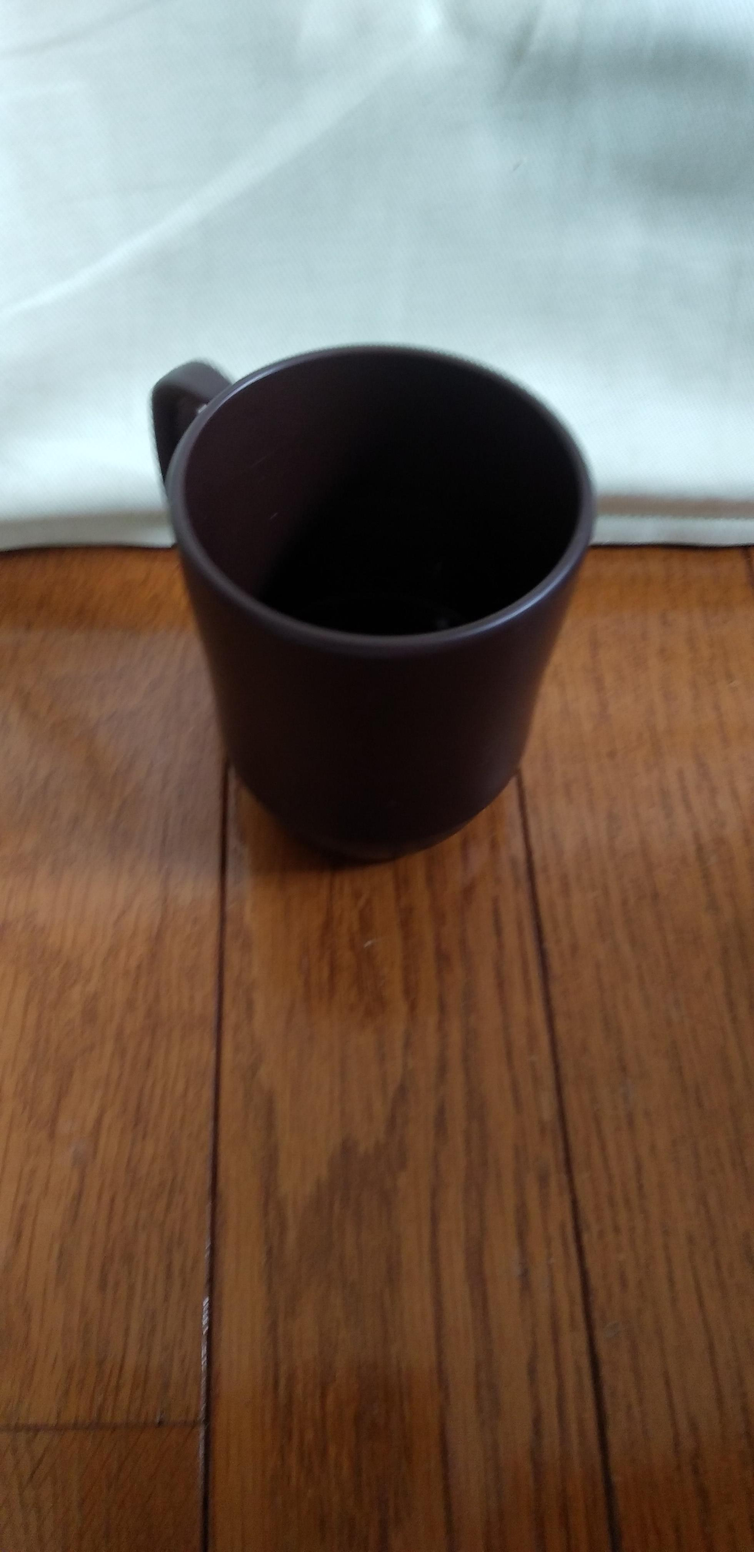mug-real100-3d100: (152, 346, 595, 861)
